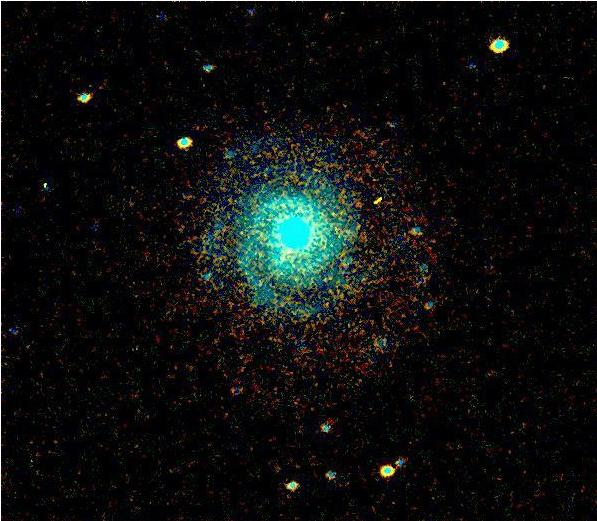star: (359, 180, 389, 210)
